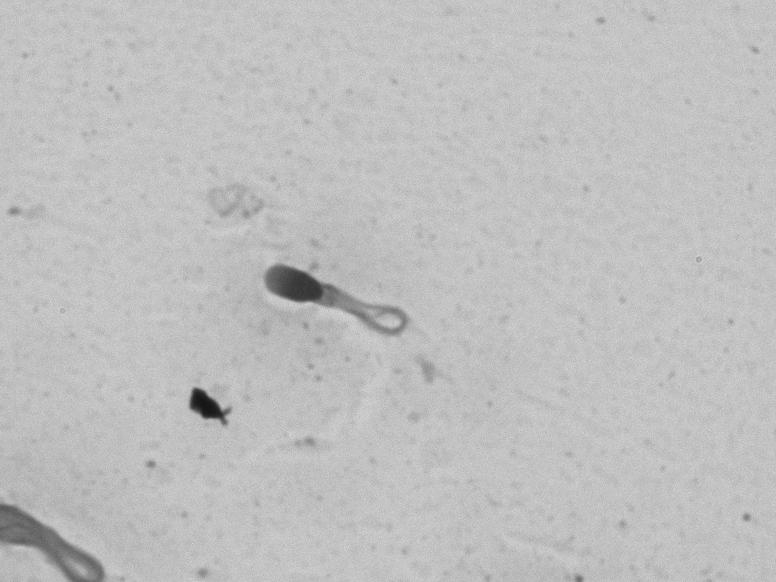Abnormal: (240, 237, 421, 352)
